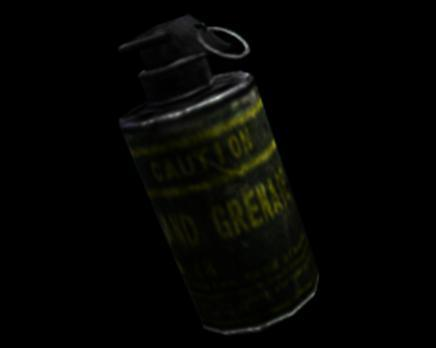Grenade: (116, 14, 319, 335)
